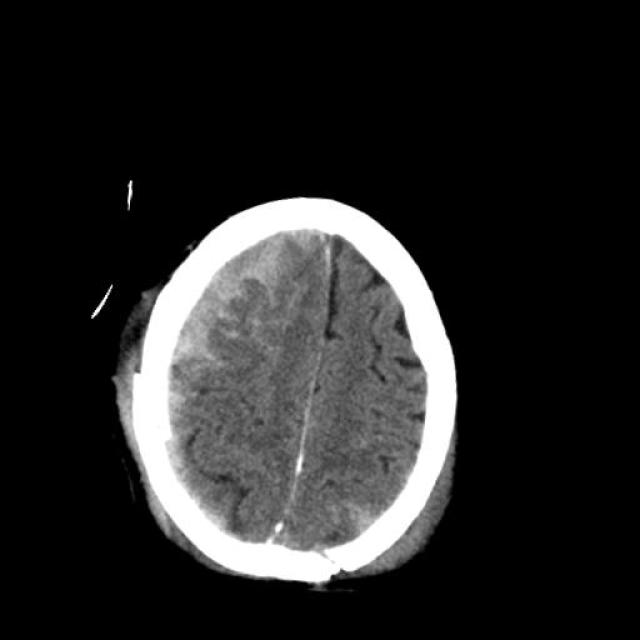Subarachnoid: (203, 267, 306, 375), (324, 490, 386, 552)
Subdural: (140, 200, 290, 540)
